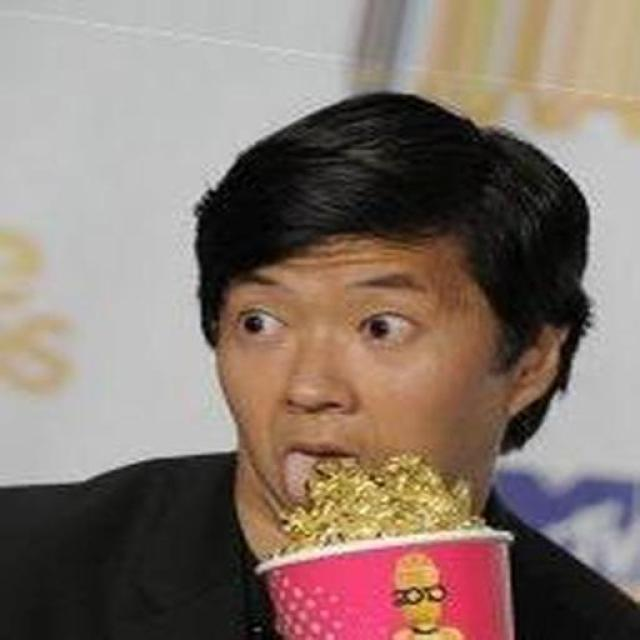bareface: (212, 246, 530, 554)
